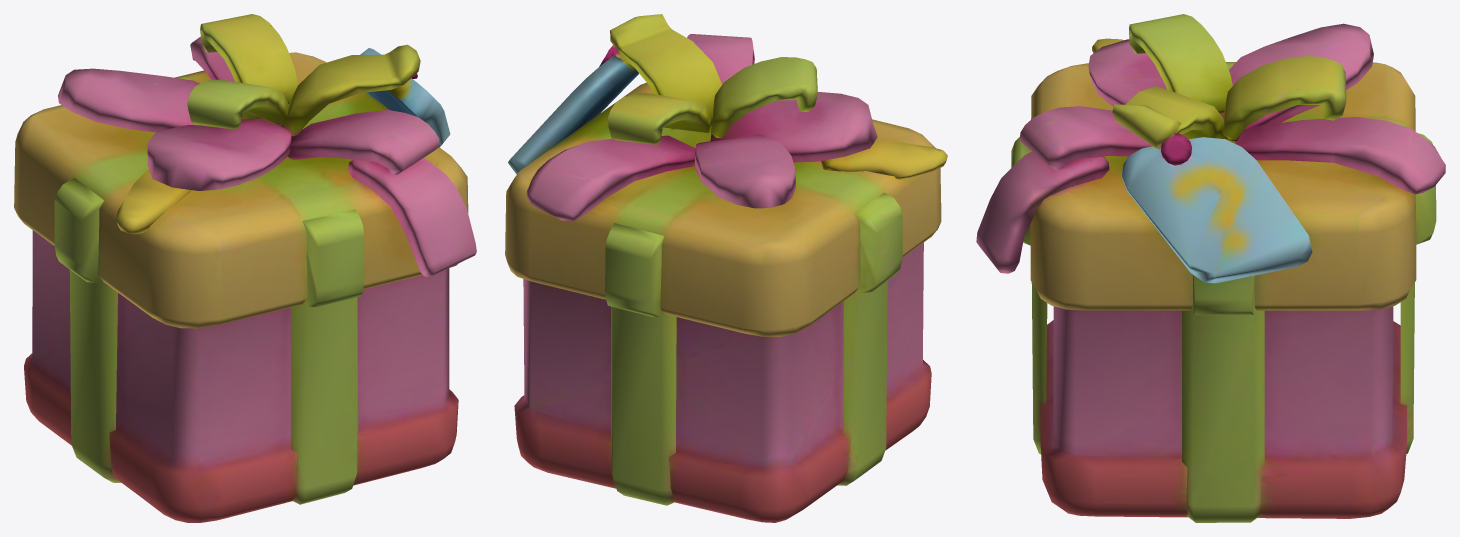
Rendered from mystery-gift.glb.
The picture shows the model from 3 angles, left to right: view 1: azimuth 30°, elevation 25°; view 2: azimuth 150°, elevation 25°; view 3: azimuth 270°, elevation 25°; orthographic projection. The views are drawn at different scales.
Visible parts, largest first — view 1: tripo_node_61be7278-07fd-47df-90f6-cfb48924acf9; view 2: tripo_node_61be7278-07fd-47df-90f6-cfb48924acf9; view 3: tripo_node_61be7278-07fd-47df-90f6-cfb48924acf9.
Part boxes in pixels (left/top/right/bottom): tripo_node_61be7278-07fd-47df-90f6-cfb48924acf9: left=14, top=14, right=476, bottom=522; tripo_node_61be7278-07fd-47df-90f6-cfb48924acf9: left=505, top=14, right=947, bottom=522; tripo_node_61be7278-07fd-47df-90f6-cfb48924acf9: left=976, top=14, right=1445, bottom=522.
Size of the model in its own units: 0.9747 by 0.9786 by 0.998.
Materials: 1 (1 with a texture image).
